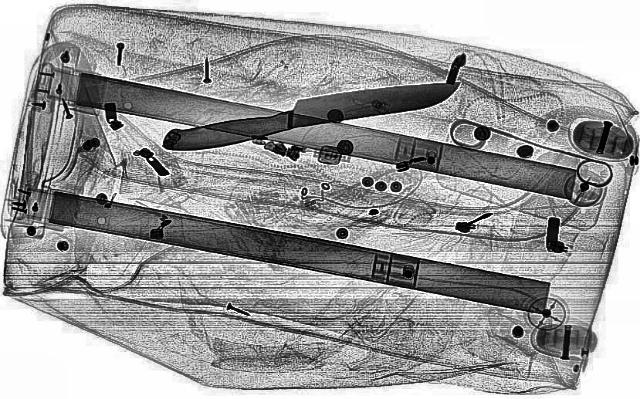Knife: (150, 70, 468, 156)
